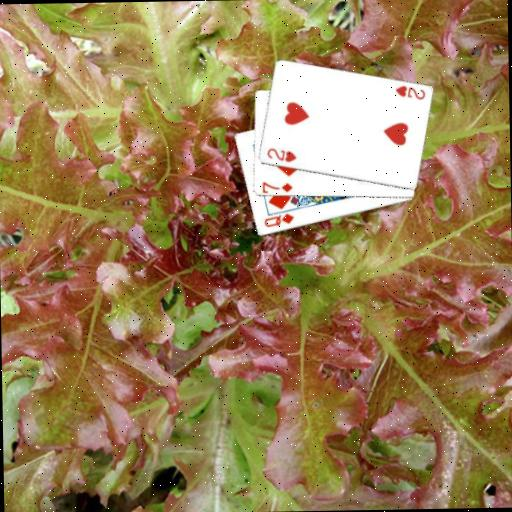2H: (264, 144, 298, 164), (392, 83, 426, 102)
7D: (259, 178, 294, 194)
QD: (262, 210, 296, 229)
